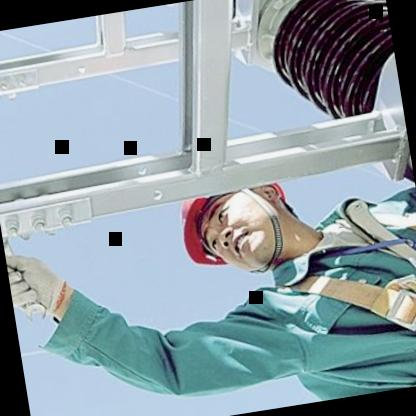helmet: (146, 168, 324, 286)
